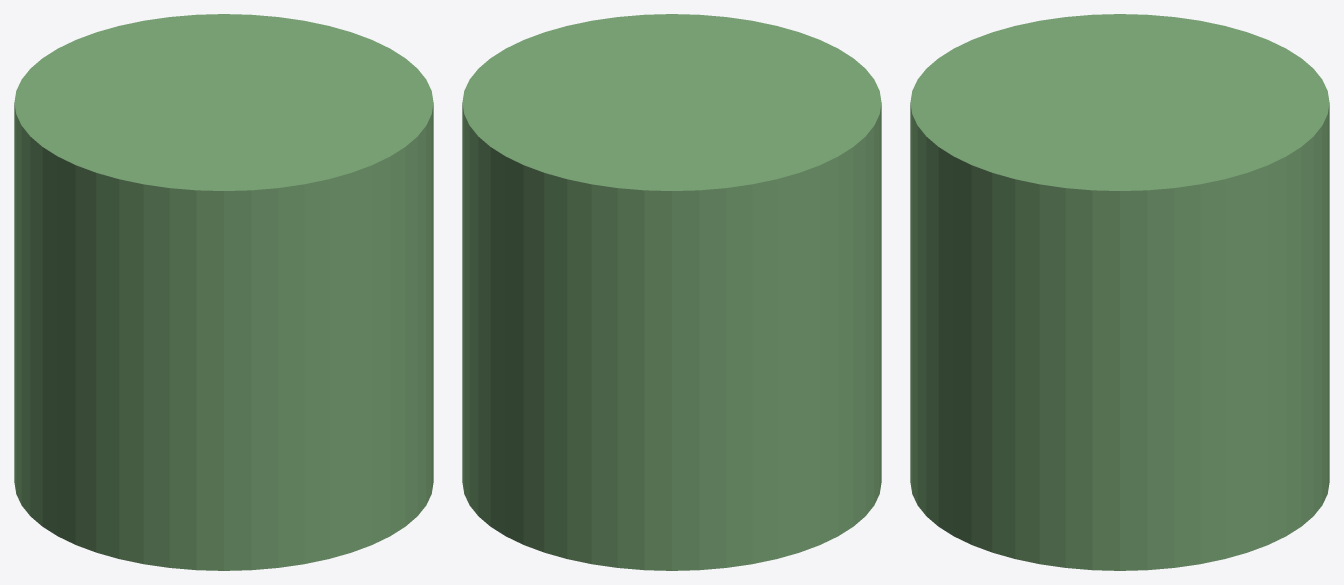
File: cilindro.glb
3 views of the same model, side by side, from view 1: azimuth 30°, elevation 25°; view 2: azimuth 150°, elevation 25°; view 3: azimuth 270°, elevation 25° (orthographic).
Parts seen in each view (by area): view 1: world; view 2: world; view 3: world.
Boxes of the visible parts, left/top/right/bottom form: world: left=14, top=14, right=433, bottom=570; world: left=462, top=14, right=881, bottom=570; world: left=910, top=14, right=1329, bottom=570.
Size of the model in its own units: 0.12 by 0.12 by 0.12.
